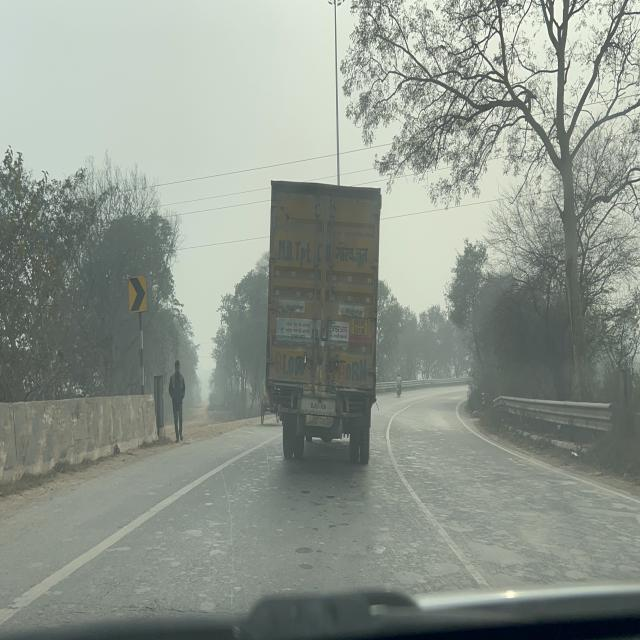TURN_RIGHT: (128, 274, 148, 314)
